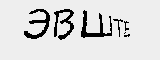В: (49, 6, 75, 40)
Е: (122, 19, 134, 41)
Т: (111, 17, 125, 39)
Ш: (78, 8, 113, 39)
Э: (22, 7, 51, 41)
